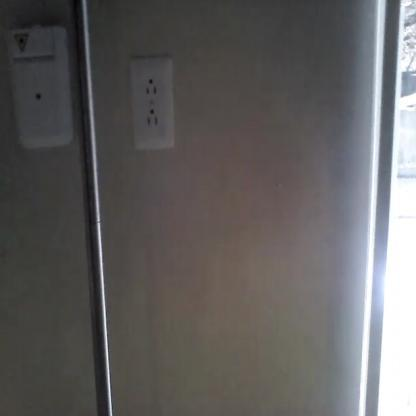OUTLET: (134, 58, 171, 150)
